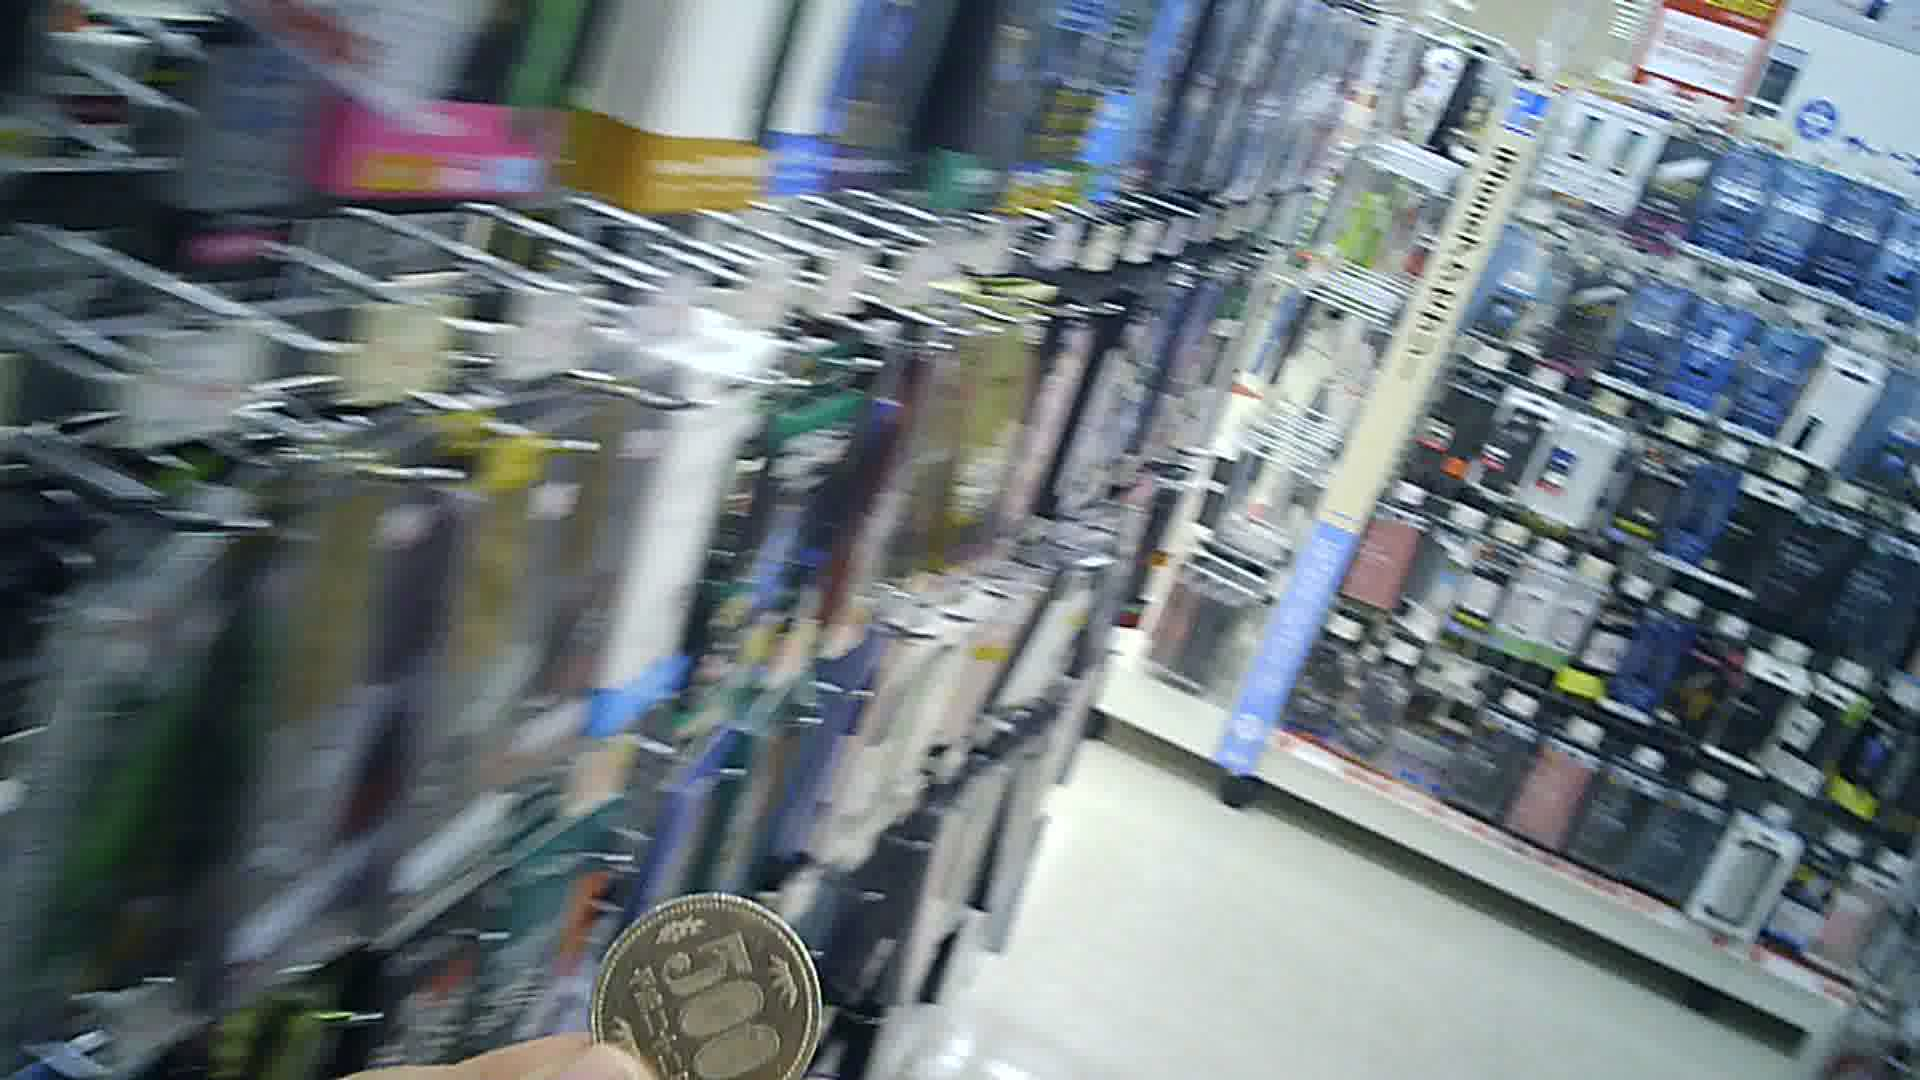500 Yen: (592, 891, 823, 1079)
